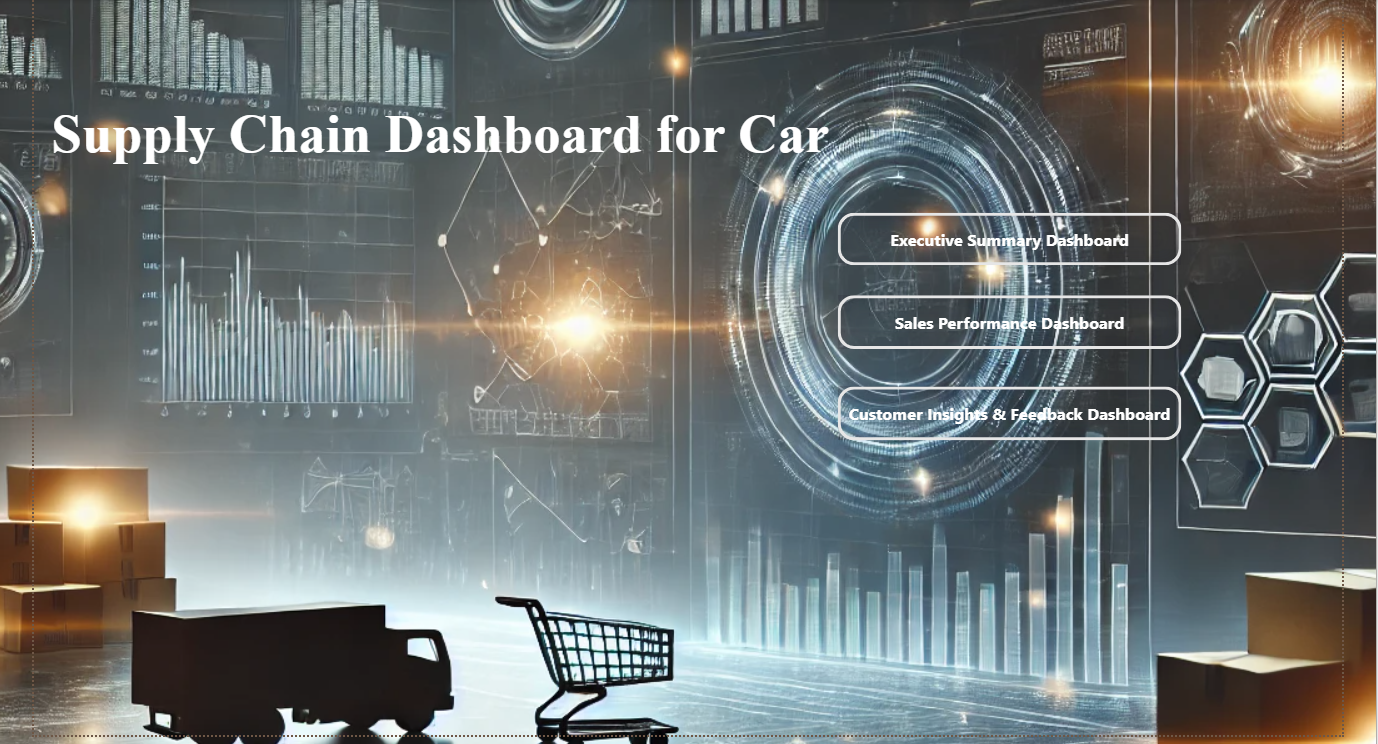

The page's visual inventory and layout, read from the dashboard file:
{"tool":"powerbi","page":{"name":"HOME","canvas":[1280,720],"ordinal":0},"visuals":[{"type":"textbox","box":[12.2,86.8,793.6,96.6],"z":0},{"type":"actionButton","box":[786.3,209.1,336.3,51.4],"z":1000},{"type":"actionButton","box":[786.3,289.8,336.3,52.6],"z":2000},{"type":"actionButton","box":[786.3,379.1,336.3,52.6],"z":3000}]}

Visuals, with their boxes on the page's 1280x720 design canvas (x1, y1, x2, y2). These are canvas units, not pixel positions in the 1378x744 screenshot, which may show the page scaled, cropped or inside an application window:
textbox: rect(12, 87, 806, 183)
actionButton: rect(786, 209, 1123, 260)
actionButton: rect(786, 290, 1123, 342)
actionButton: rect(786, 379, 1123, 432)
